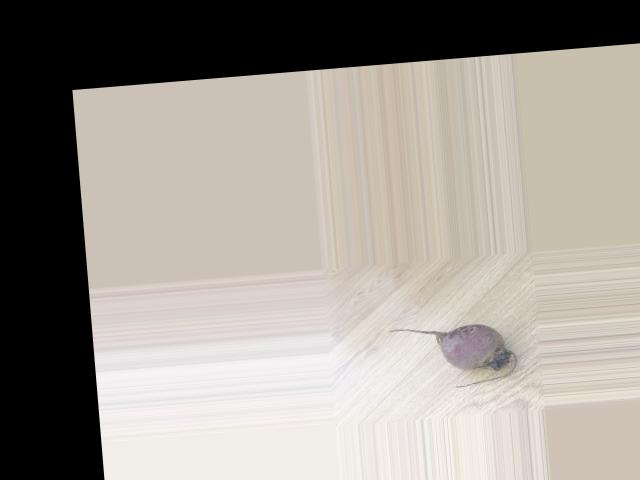beet: (387, 319, 518, 392)
